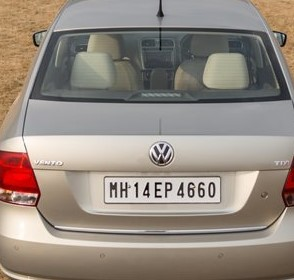MH14EP4660: (103, 174, 221, 204)
